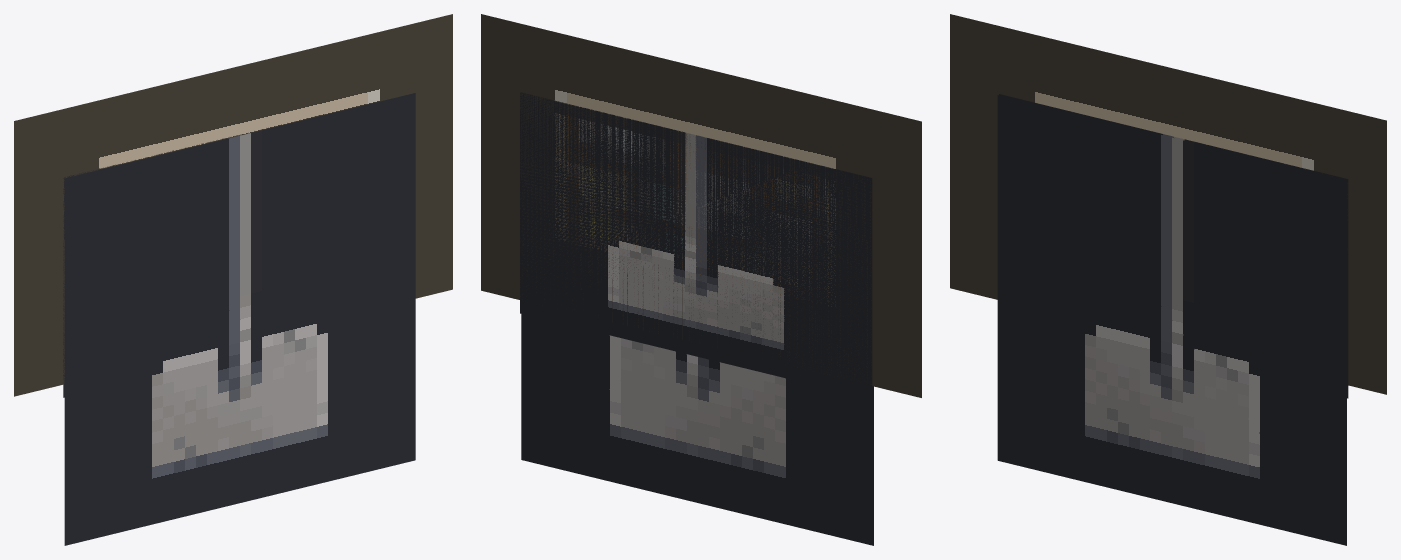
File: Jobs_Tutorial_Woodwork_0.glb
3 views of the same model, side by side, from view 1: azimuth 30°, elevation 25°; view 2: azimuth 150°, elevation 25°; view 3: azimuth 330°, elevation 25° (orthographic).
Visible parts, largest first — view 1: Stand, Renderer; view 2: Pole, Renderer, Stand; view 3: Stand, Renderer, Pole.
Boxes of the visible parts, left/top/right/bottom form: Stand: left=64, top=93, right=415, bottom=545; Renderer: left=14, top=14, right=452, bottom=396; Pole: left=520, top=92, right=872, bottom=399; Renderer: left=481, top=14, right=921, bottom=397; Stand: left=521, top=314, right=873, bottom=545; Stand: left=997, top=95, right=1346, bottom=545; Renderer: left=950, top=14, right=1386, bottom=394; Pole: left=999, top=94, right=1348, bottom=398.
Size of the model in its own units: 1.25 by 1.19 by 0.007.
3 materials, 3 textured.
